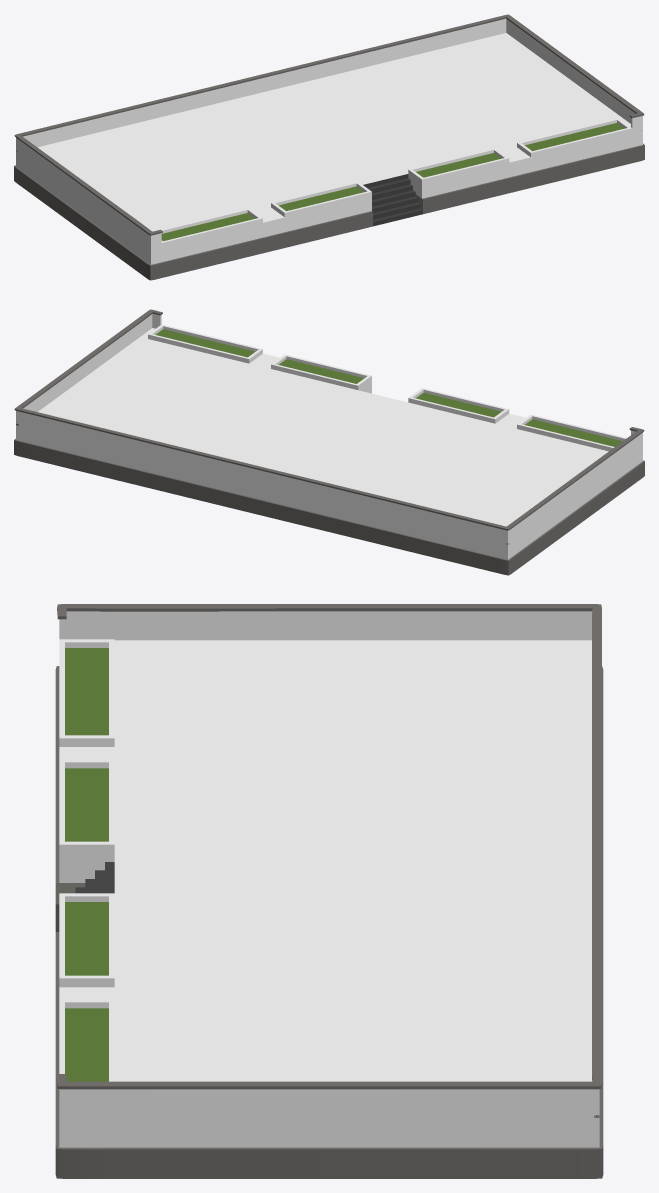
The model's file is School Foundation.fbx.
3 views of the same model, one above another, from view 1: azimuth 30°, elevation 25°; view 2: azimuth 150°, elevation 25°; view 3: azimuth 270°, elevation 25° (orthographic). The views are drawn at different scales.
Parts seen in each view (by area): view 1: Foundation Area, Plants Area; view 2: Foundation Area, Plants Area; view 3: Foundation Area, Plants Area.
Boxes of the visible parts, x1=… form: Foundation Area: x1=14, y1=14, x2=644, y2=280; Plants Area: x1=161, y1=123, x2=624, y2=241; Foundation Area: x1=14, y1=309, x2=644, y2=575; Plants Area: x1=155, y1=329, x2=622, y2=446; Foundation Area: x1=55, y1=604, x2=603, y2=1178; Plants Area: x1=65, y1=648, x2=108, y2=1081.
Size of the model in its own units: 3498 by 1674 by 310.
